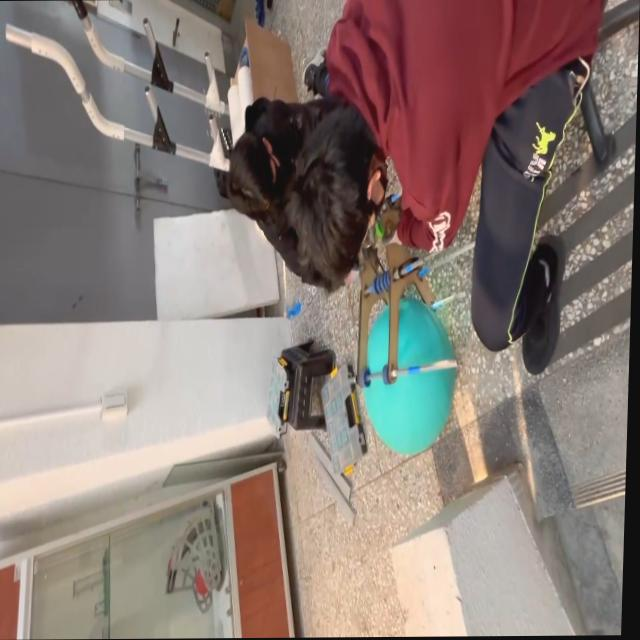ALGAE: (359, 295, 460, 457)
